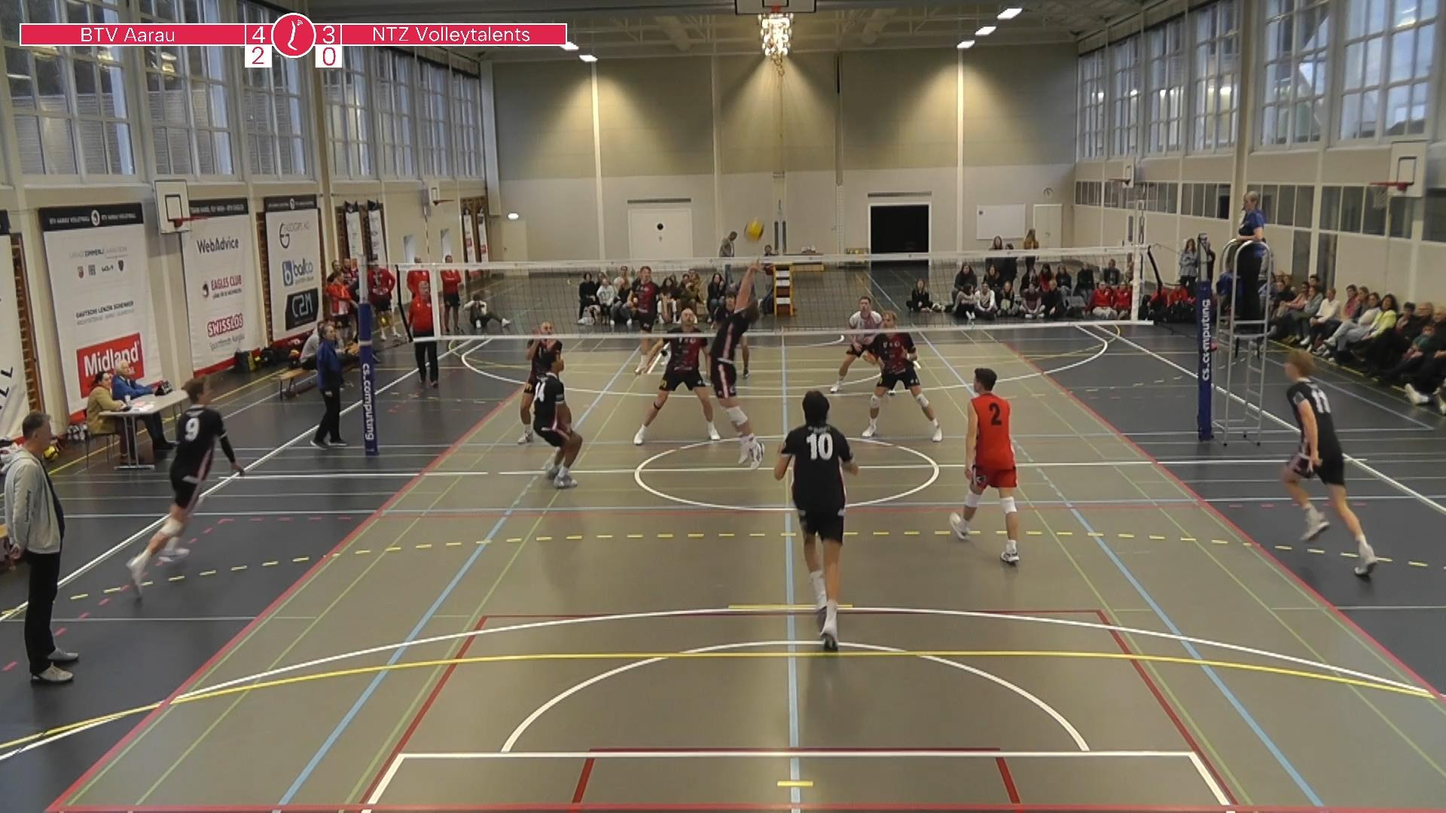Player: (127, 379, 243, 595), (773, 391, 858, 650), (1282, 350, 1377, 577), (949, 368, 1018, 564), (633, 309, 720, 444), (862, 312, 941, 442), (532, 350, 582, 489), (517, 321, 561, 443), (830, 296, 882, 393), (632, 266, 660, 373), (738, 336, 749, 378)
Set: (703, 260, 774, 473)
ball: (742, 220, 769, 243)
